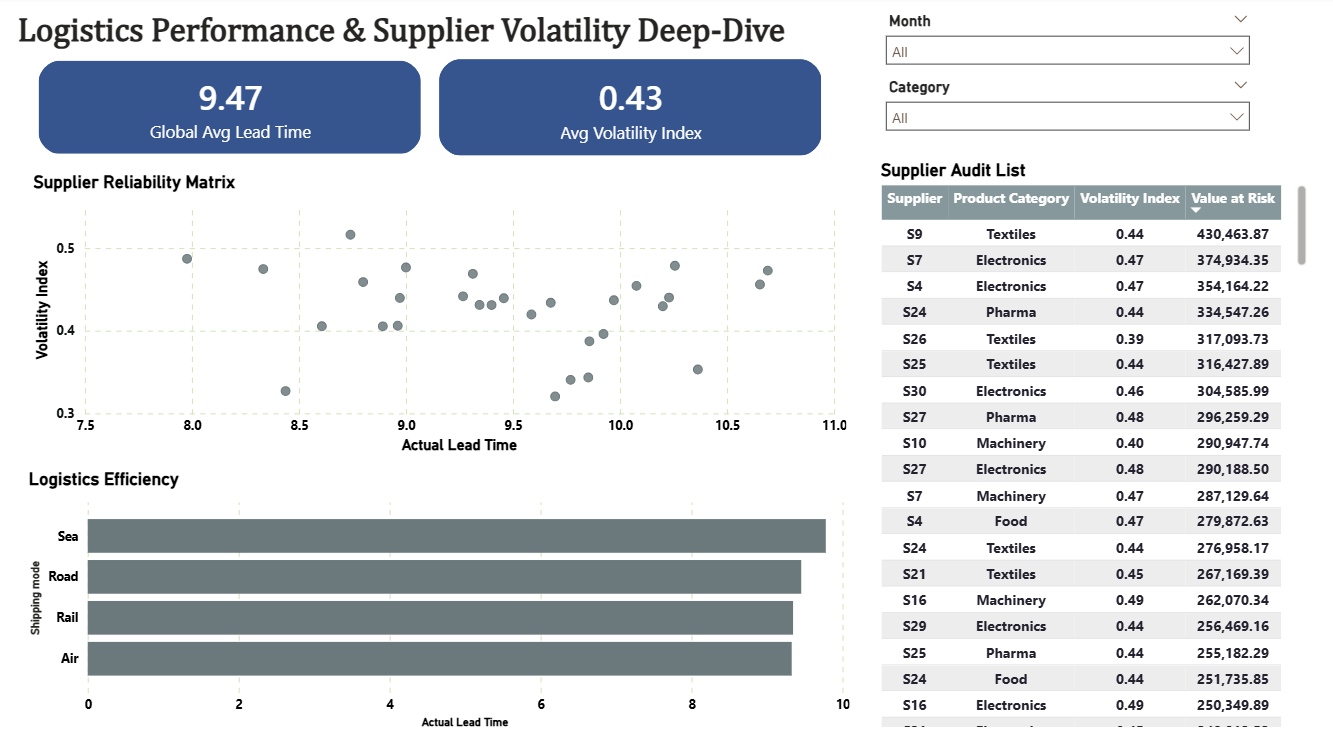

This screenshot's page, from the dashboard's own definition file:
{"tool":"powerbi","page":{"name":"Operational Supplier Reliability","canvas":[1280,720],"ordinal":1},"visuals":[{"type":"scatterChart","title":"Supplier Reliability Matrix","fields":{"X":["Avg(orders_fact.Actual_Lead_Time)"],"Y":["suppliers_dim.Volatility_Index"]},"box":[28.6,167.6,786.4,273.6],"z":0},{"type":"barChart","title":"Logistics Efficiency","fields":{"Category":["orders_fact.Shipping_mode"],"Y":["Avg(orders_fact.Actual_Lead_Time)"]},"box":[24.4,450.6,793.8,252.1],"z":1000},{"type":"tableEx","title":"Supplier Audit List","fields":{"Values":["orders_fact.Supplier_ID","orders_fact.Product_Category","suppliers_dim.Volatility_Index","Measuretable.Value at Risk"]},"box":[837.7,156.1,416.4,546.5],"z":2000},{"type":"textbox","box":[0,10,770.6,47.3],"z":3000},{"type":"cardVisual","fields":{"Data":["Avg(orders_fact.Actual_Lead_Time)"]},"box":[21.5,44.4,399.6,123.2],"z":4000},{"type":"cardVisual","fields":{"Data":["Avg(suppliers_dim.Volatility_Index)"]},"box":[403.9,43,399.6,126.1],"z":5000},{"type":"slicer","fields":{"Values":["DateTable.MonthShort"]},"box":[837.7,9.8,367.6,74.8],"z":6000},{"type":"slicer","fields":{"Values":["orders_fact.Product_Category"]},"box":[837.7,73.2,367.6,71.6],"z":7000}]}

Visuals, with their boxes in screenshot pixels (x1, y1, x2, y2), scaled from the page's 1280x720 canvas onto the 1333x744 screenshot:
"Supplier Reliability Matrix" scatterChart: [left=30, top=173, right=849, bottom=456]
"Logistics Efficiency" barChart: [left=25, top=466, right=852, bottom=726]
"Supplier Audit List" tableEx: [left=872, top=161, right=1306, bottom=726]
textbox: [left=0, top=10, right=803, bottom=59]
cardVisual - Avg(orders_fact.Actual_Lead_Time): [left=22, top=46, right=439, bottom=173]
cardVisual - Avg(suppliers_dim.Volatility_Index): [left=421, top=44, right=837, bottom=175]
slicer - DateTable.MonthShort: [left=872, top=10, right=1255, bottom=87]
slicer - orders_fact.Product_Category: [left=872, top=76, right=1255, bottom=150]
